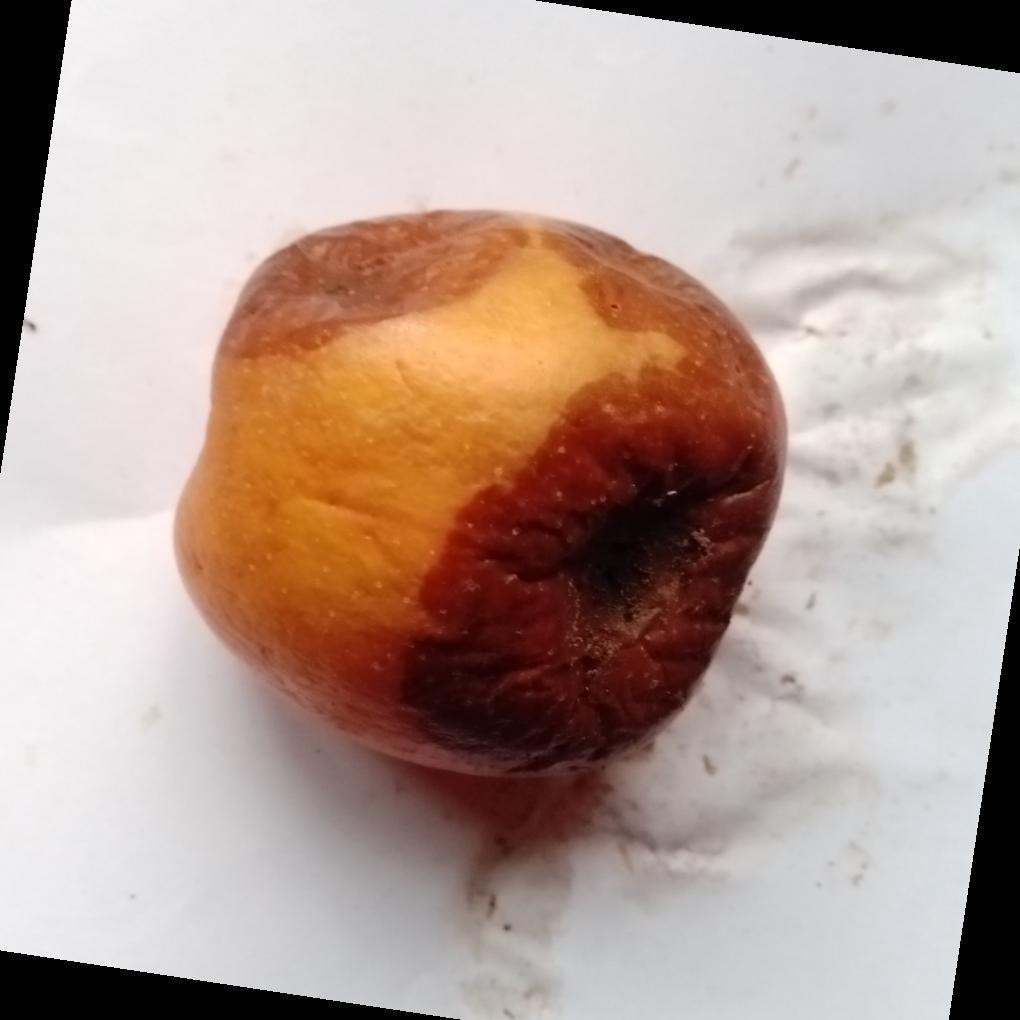FreshOrange: (170, 210, 789, 785)
